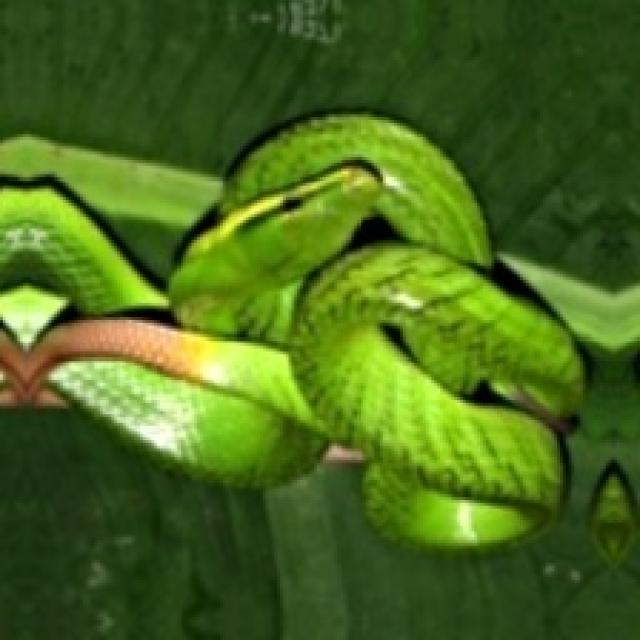red-tailed green ratsnake: (0, 114, 580, 546)
